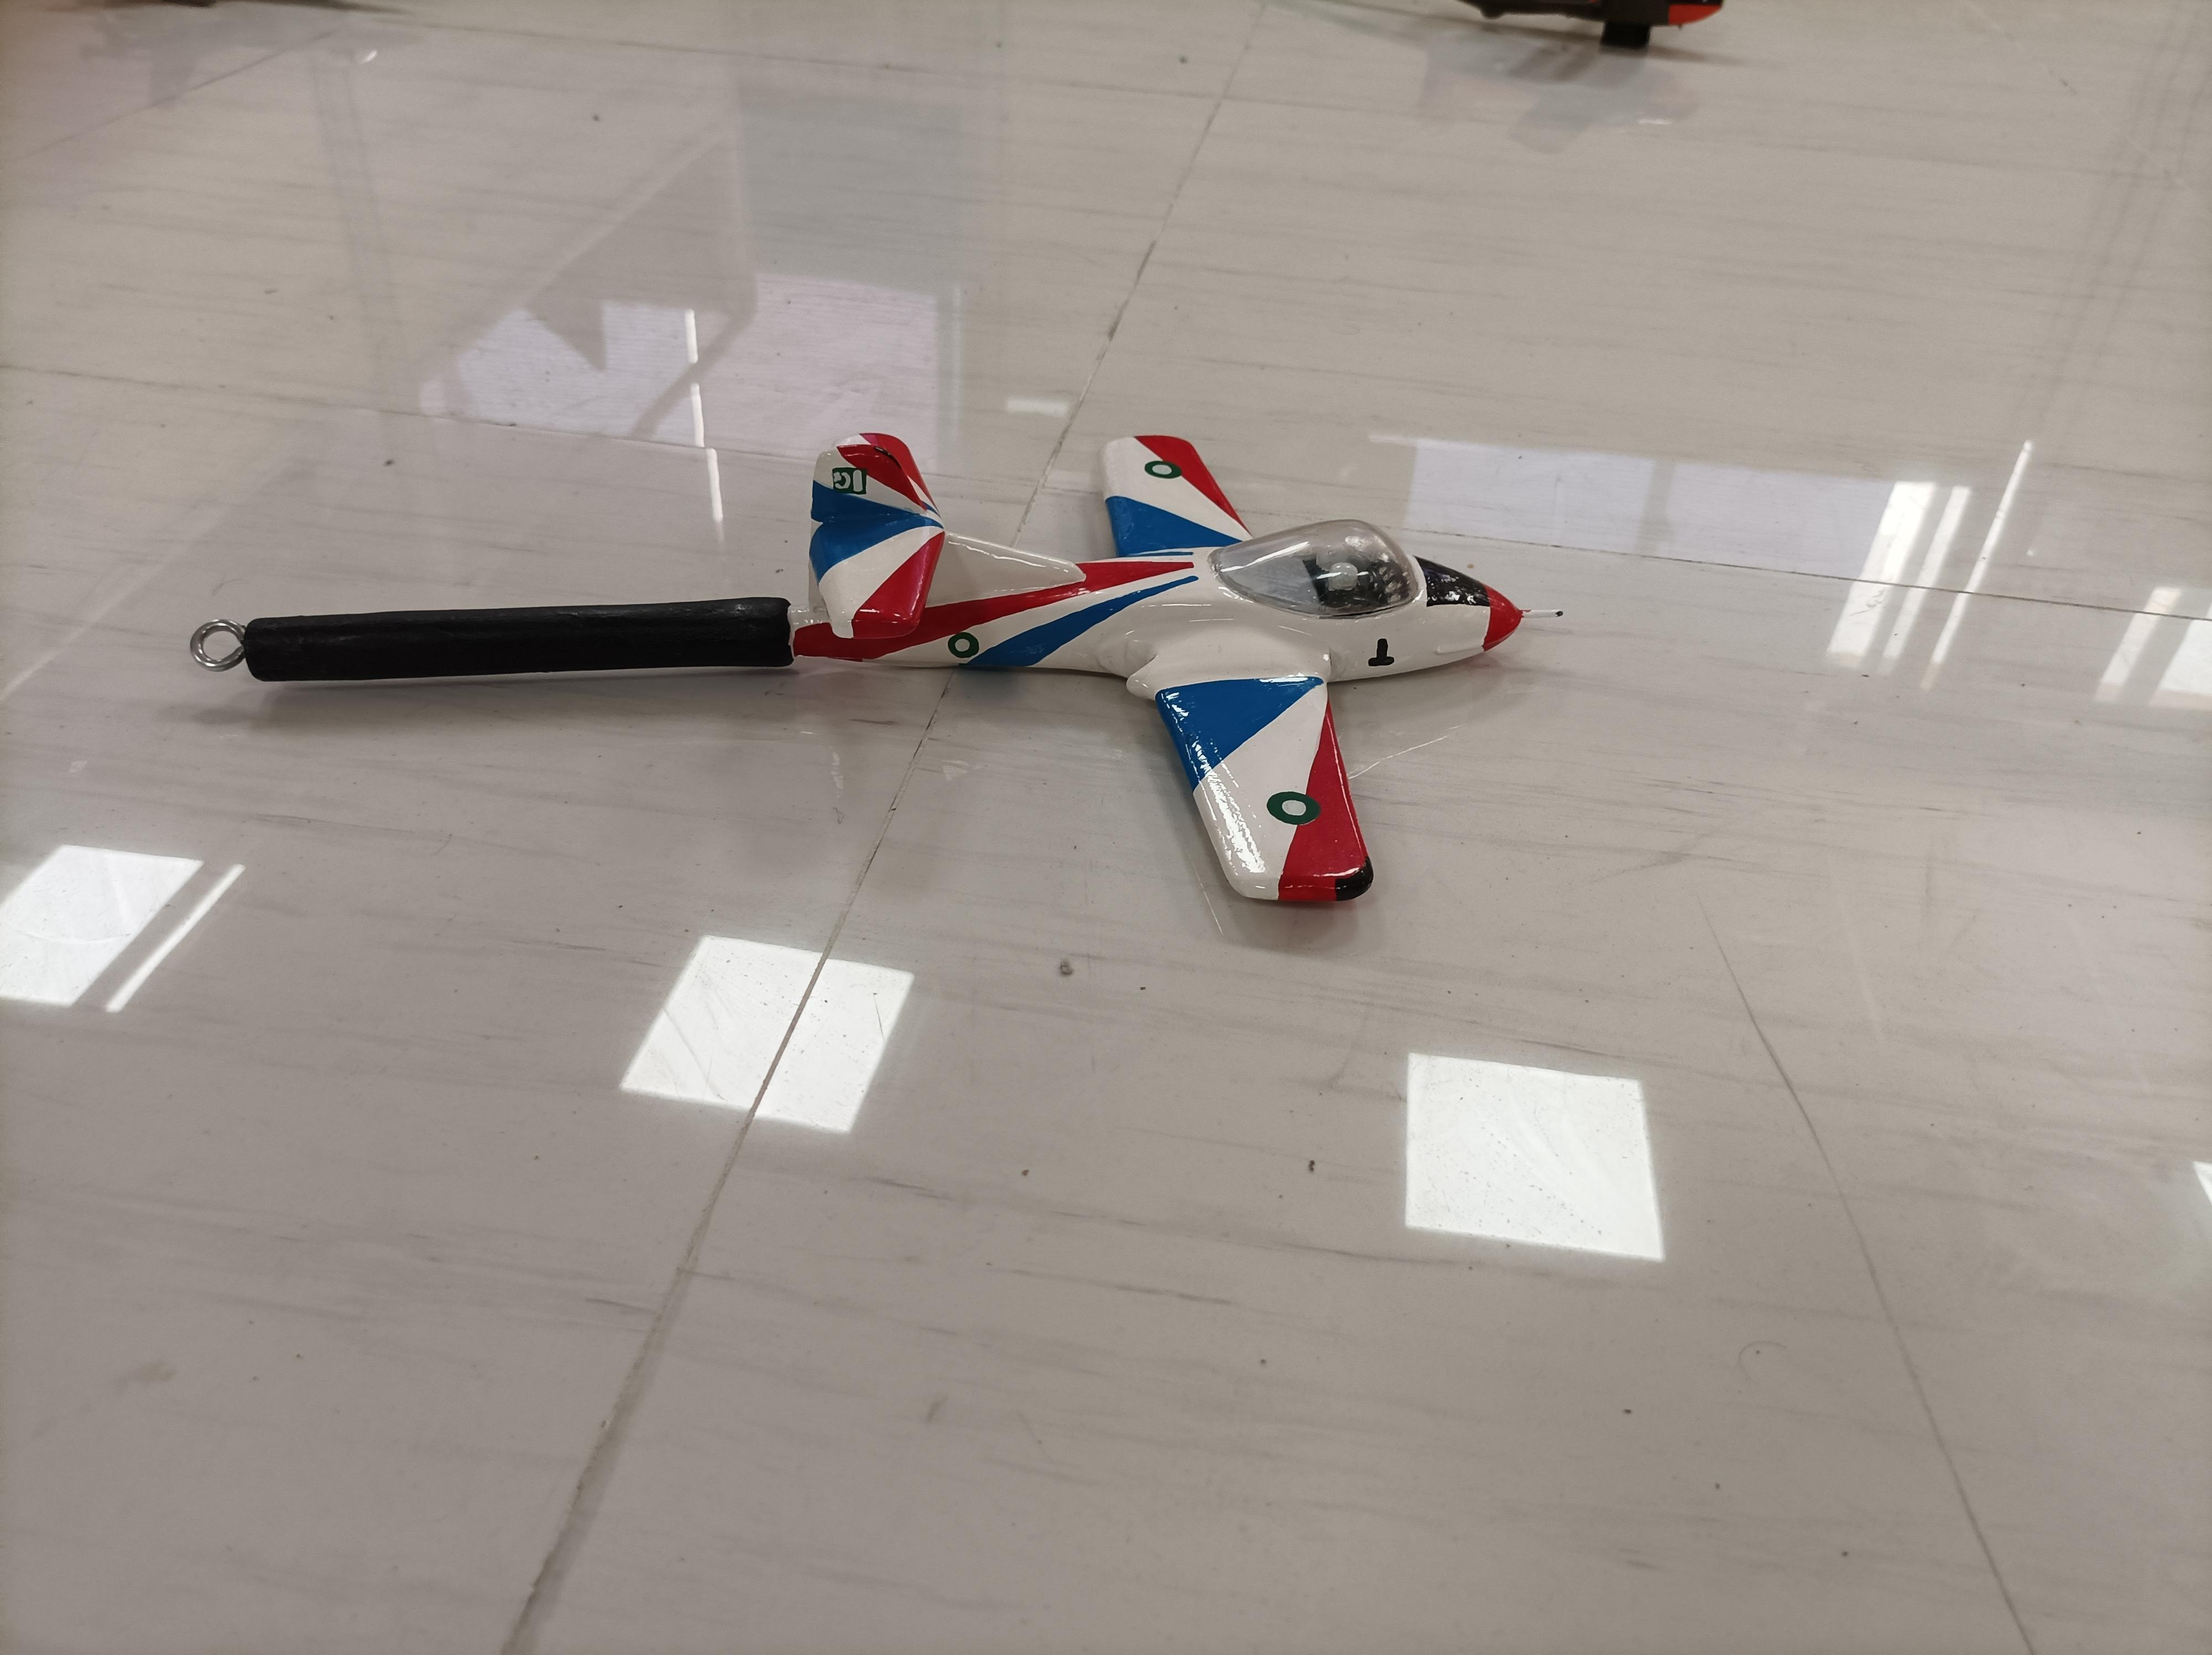Airplane: (754, 370, 1534, 949)
